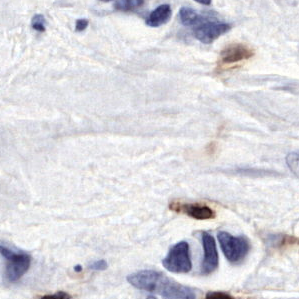Lymphocyte: (169, 199, 218, 221)
